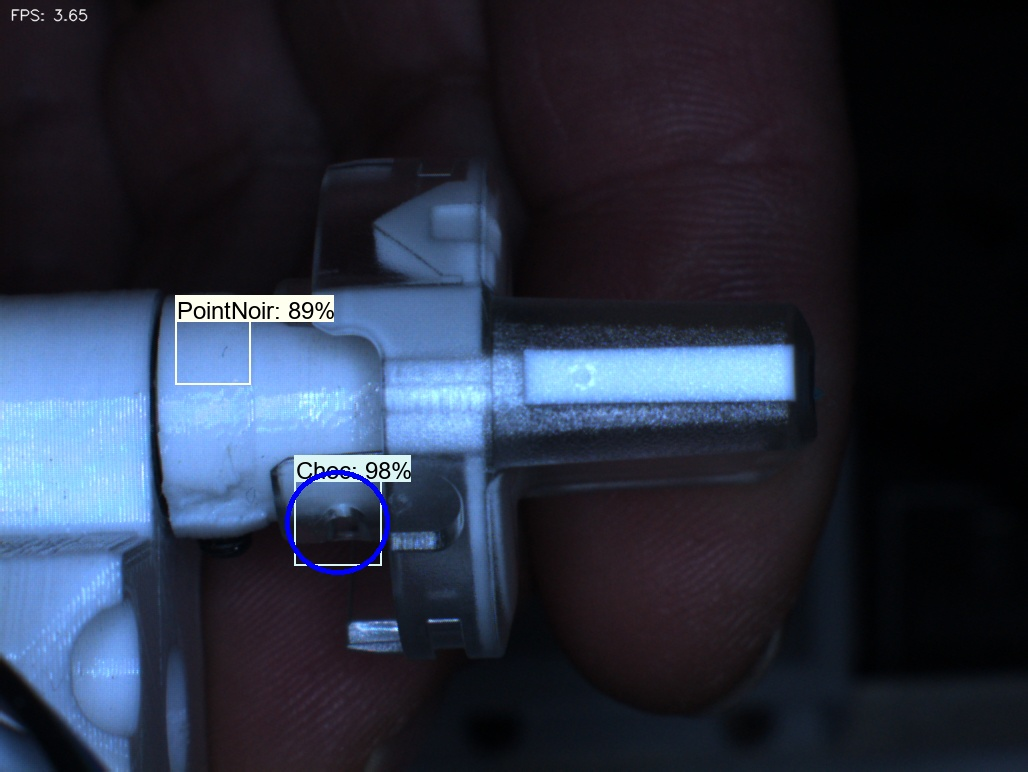DentOk: (343, 200, 414, 290)
